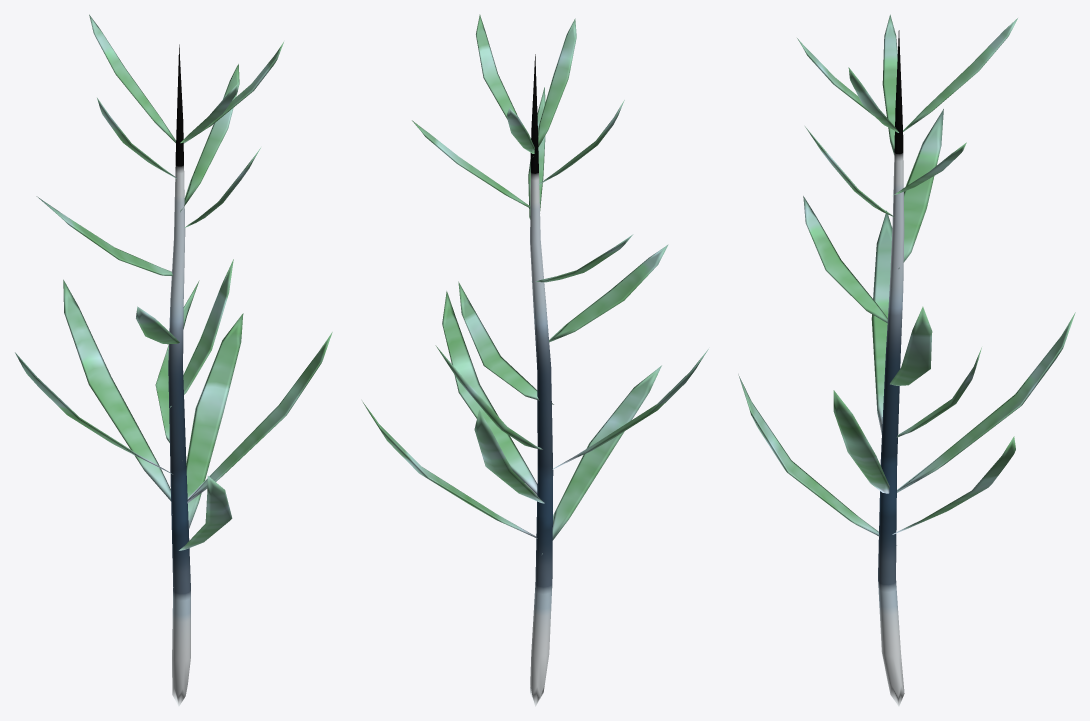
Rendered from Plant_2.fbx.
3 views of the same model, side by side, from view 1: azimuth 30°, elevation 25°; view 2: azimuth 150°, elevation 25°; view 3: azimuth 270°, elevation 25° (orthographic). The views are drawn at different scales.
Visible parts, largest first — view 1: Plant_2; view 2: Plant_2; view 3: Plant_2.
Boxes of the visible parts, <box> form: Plant_2: <box>15,14,332,706</box>; Plant_2: <box>362,14,708,706</box>; Plant_2: <box>738,14,1075,706</box>.
Bounding box in the file's own units: 0.7047 × 1.53 × 0.6878.
